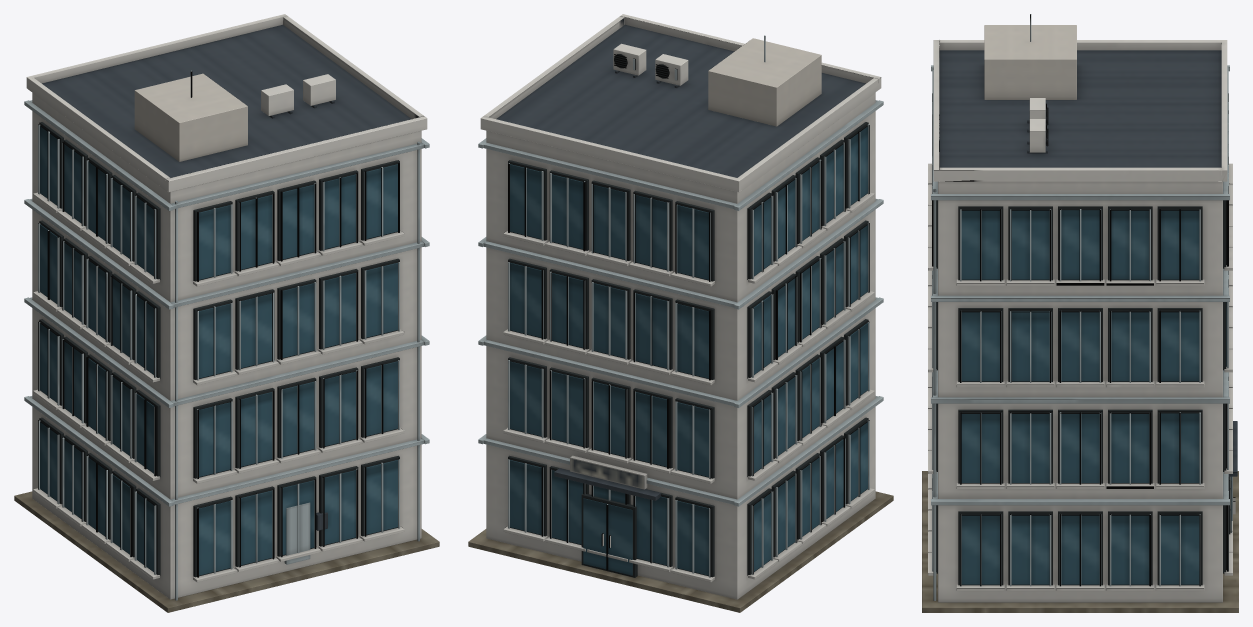
The model's file is office_004.obj.
3 renders of one model, left to right at view 1: azimuth 30°, elevation 25°; view 2: azimuth 150°, elevation 25°; view 3: azimuth 270°, elevation 25°, orthographic. The views are drawn at different scales.
Visible parts, largest first — view 1: office_004; view 2: office_004; view 3: office_004.
Part boxes in pixels (<box>): office_004: <box>14,14,439,612</box>; office_004: <box>468,14,893,612</box>; office_004: <box>922,14,1238,612</box>.
Size of the model in its own units: 9.1 by 15.5 by 8.9.
Materials: 1 (1 with a texture image).
